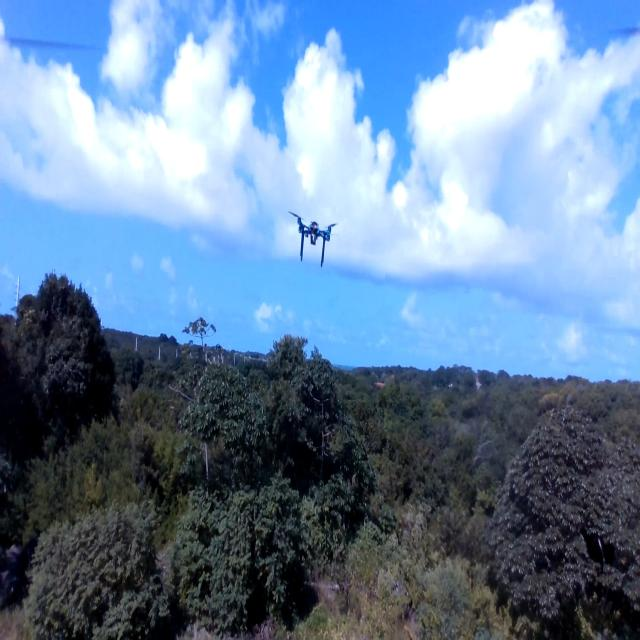-uav-: (282, 198, 347, 270)
